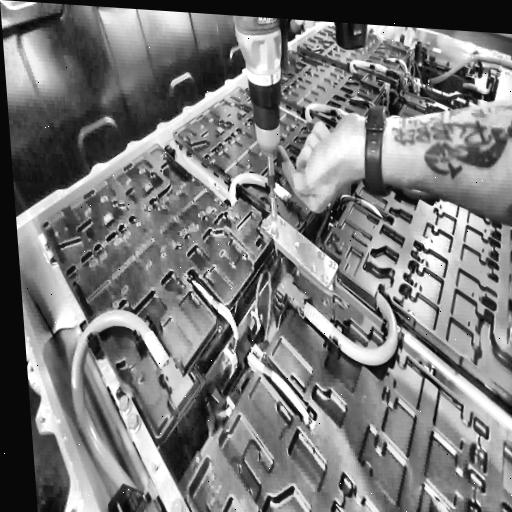high_volt_cable: (62, 301, 184, 499), (302, 276, 405, 383), (420, 46, 512, 104), (226, 168, 304, 232), (301, 99, 360, 139), (346, 53, 402, 93)
low_volt_cable: (187, 265, 321, 432)
